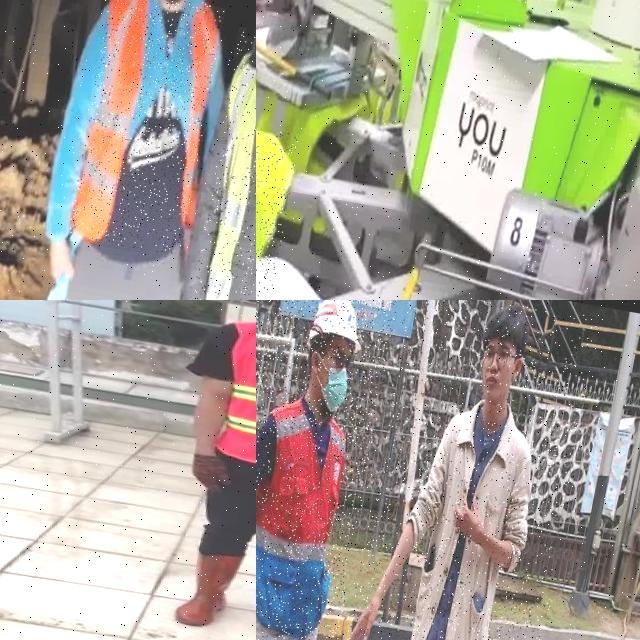boots: (173, 548, 242, 632)
helmet: (305, 300, 371, 356)
vest: (67, 0, 225, 256), (256, 395, 360, 640), (182, 28, 256, 300), (214, 317, 256, 485)
